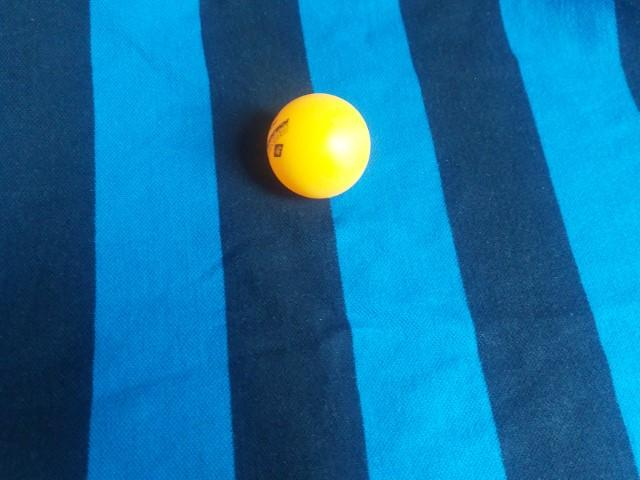oball: (261, 273, 379, 392)
